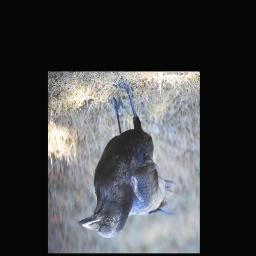Crow: (79, 80, 176, 239)
